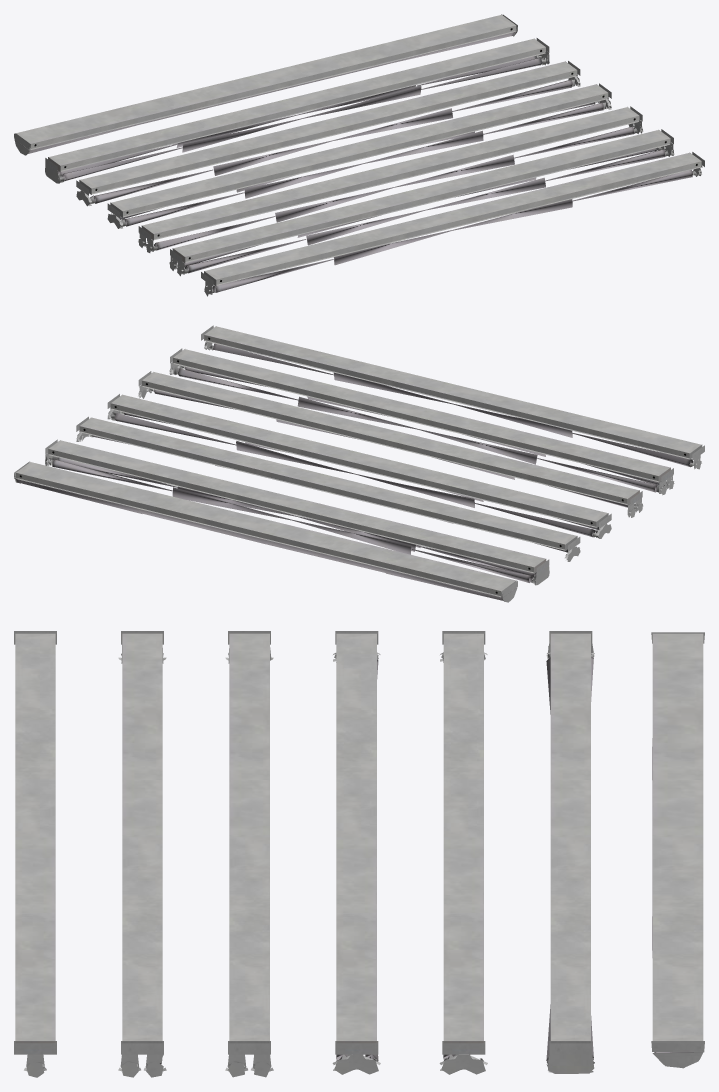
File: ph_mounted_fluorescent_lights.glb
3 views of the same model, one above another, from view 1: azimuth 30°, elevation 25°; view 2: azimuth 150°, elevation 25°; view 3: azimuth 270°, elevation 25° (orthographic). The views are drawn at different scales.
Parts seen in each view (by area): view 1: mounted_fluorescent_lights_a; view 2: mounted_fluorescent_lights_a; view 3: mounted_fluorescent_lights_a.
Boxes of the visible parts, bbox=[...] form: mounted_fluorescent_lights_a: bbox=[14, 14, 704, 296]; mounted_fluorescent_lights_a: bbox=[14, 325, 704, 602]; mounted_fluorescent_lights_a: bbox=[14, 631, 704, 1077].
Size of the model in its own units: 0.9122 by 0.0359 by 0.6454.
2 materials, 2 textured.
